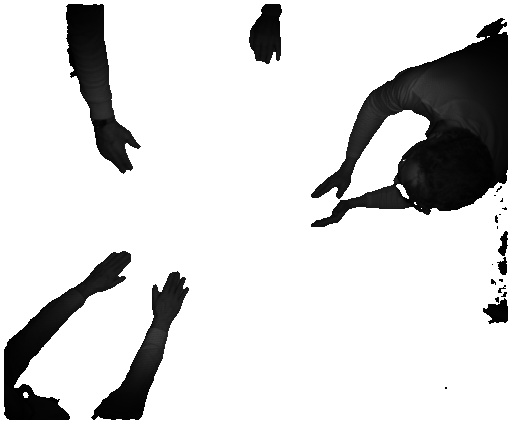hand: (152, 264, 191, 326), (88, 249, 135, 299), (96, 125, 143, 175), (248, 20, 285, 63)
spine: (312, 162, 350, 200), (312, 201, 354, 231)
